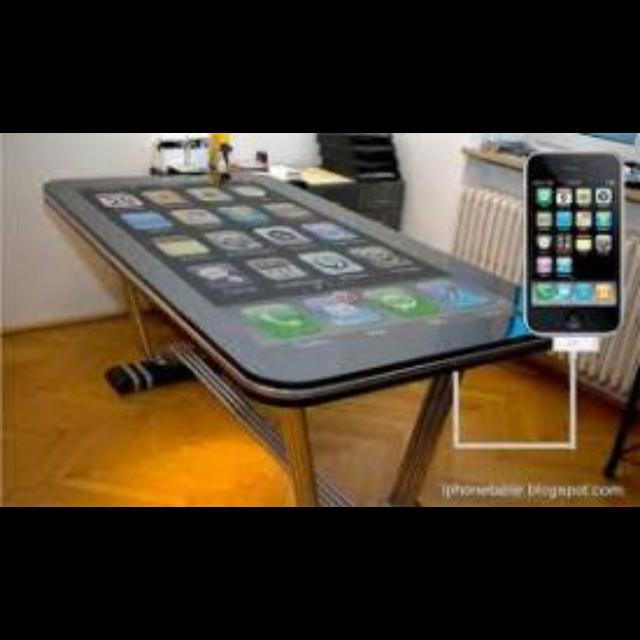Phone: (524, 154, 622, 336)
